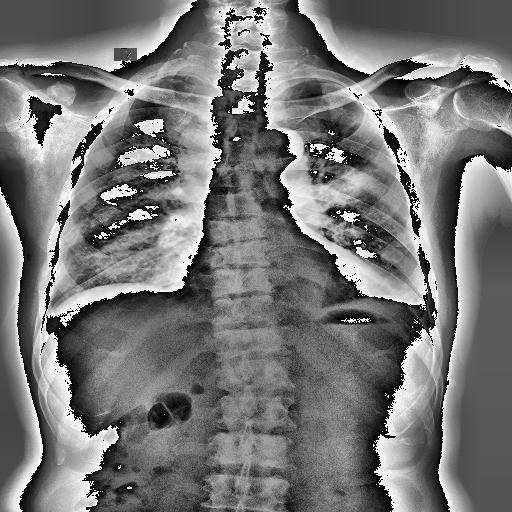0- Aortic enlargement: (252, 128, 313, 188), (251, 127, 306, 167), (258, 127, 304, 163)
10- Pleural effusion: (410, 290, 442, 324)
11- Pleural thickening: (266, 75, 340, 100), (410, 290, 442, 324), (146, 70, 208, 84)
13- Pulmonary fibrosis: (94, 224, 162, 278), (315, 172, 371, 212)
3- Cardiomegaly: (179, 250, 392, 314), (170, 251, 396, 308), (168, 260, 396, 308)
6- Infiltration: (54, 144, 195, 290), (94, 224, 162, 278), (315, 172, 371, 212)
7- Lung Opacity: (303, 172, 375, 208)
9- Other lesion: (54, 144, 195, 290)
